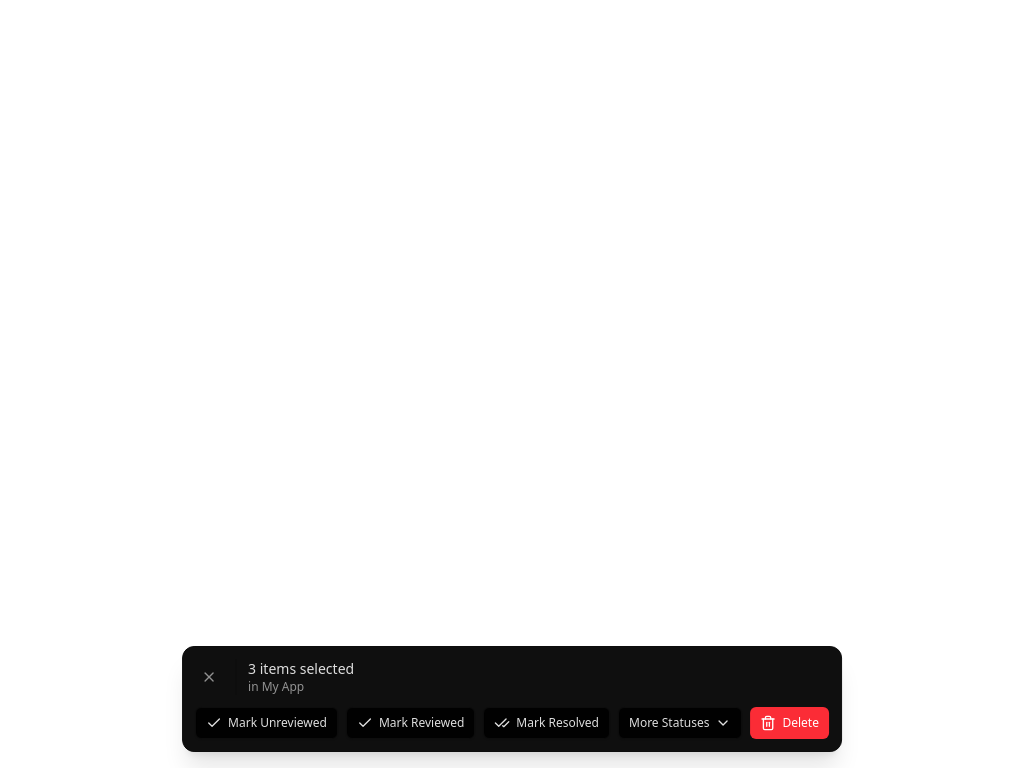
Test: BulkActionBar › delete confirmation modal › opens the confirmation modal when Delete is clicked
Click the button "Delete" at point(790, 723), box [750,707,829,739]
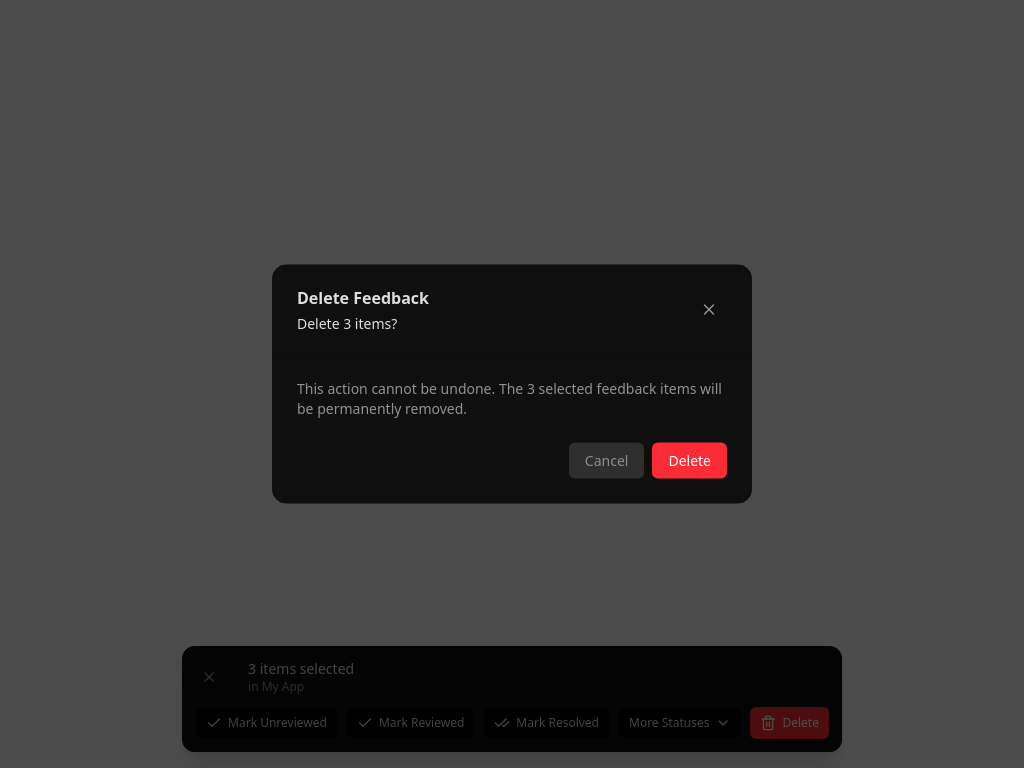
Expected: the heading "Delete Feedback" is shown, [297,286,429,310]
